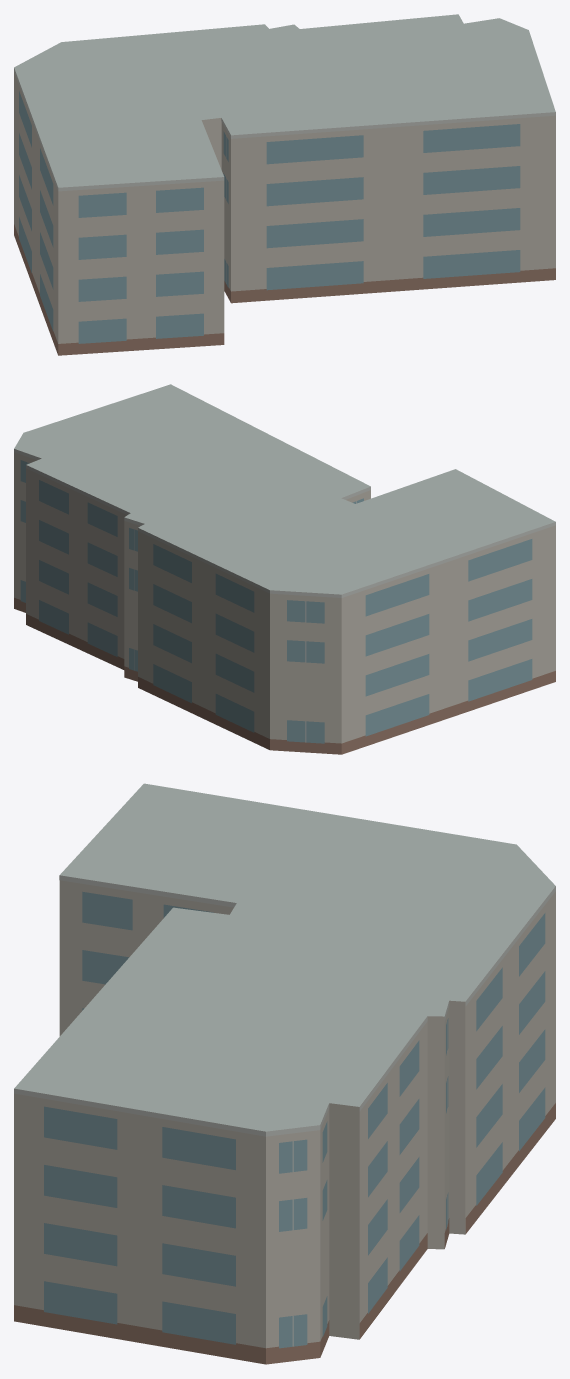
File: survey-upis-32869775.glb
3 renders of one model, top to bottom at view 1: azimuth 30°, elevation 25°; view 2: azimuth 150°, elevation 25°; view 3: azimuth 270°, elevation 25°, orthographic. The views are drawn at different scales.
Parts seen in each view (by area): view 1: survey-upis-32869775.tmp; view 2: survey-upis-32869775.tmp; view 3: survey-upis-32869775.tmp.
Part boxes in pixels (x1,y1,x2,y2): survey-upis-32869775.tmp: [14, 14, 555, 355]; survey-upis-32869775.tmp: [14, 384, 555, 754]; survey-upis-32869775.tmp: [14, 783, 555, 1364].
Bounding box in the file's own units: 36.25 × 11.3 × 23.84.
